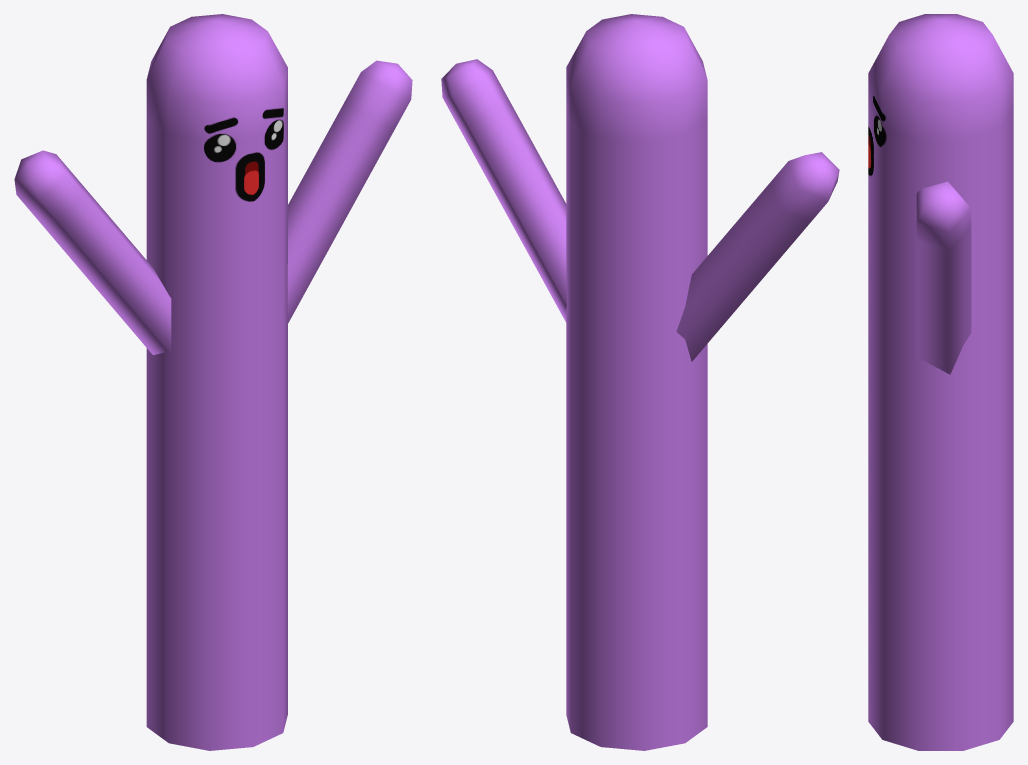
The model's file is airdancer.glb.
The picture shows the model from 3 angles, left to right: view 1: azimuth 30°, elevation 25°; view 2: azimuth 150°, elevation 25°; view 3: azimuth 270°, elevation 25°; orthographic projection.
Visible parts, largest first — view 1: refAirDancers; view 2: refAirDancers; view 3: refAirDancers.
Boxes of the visible parts, bbox=[...] form: refAirDancers: bbox=[14, 14, 412, 750]; refAirDancers: bbox=[441, 14, 839, 750]; refAirDancers: bbox=[868, 14, 1013, 750].
Size of the model in its own units: 2.69 by 4.59 by 0.86.
1 material, 1 textured.
